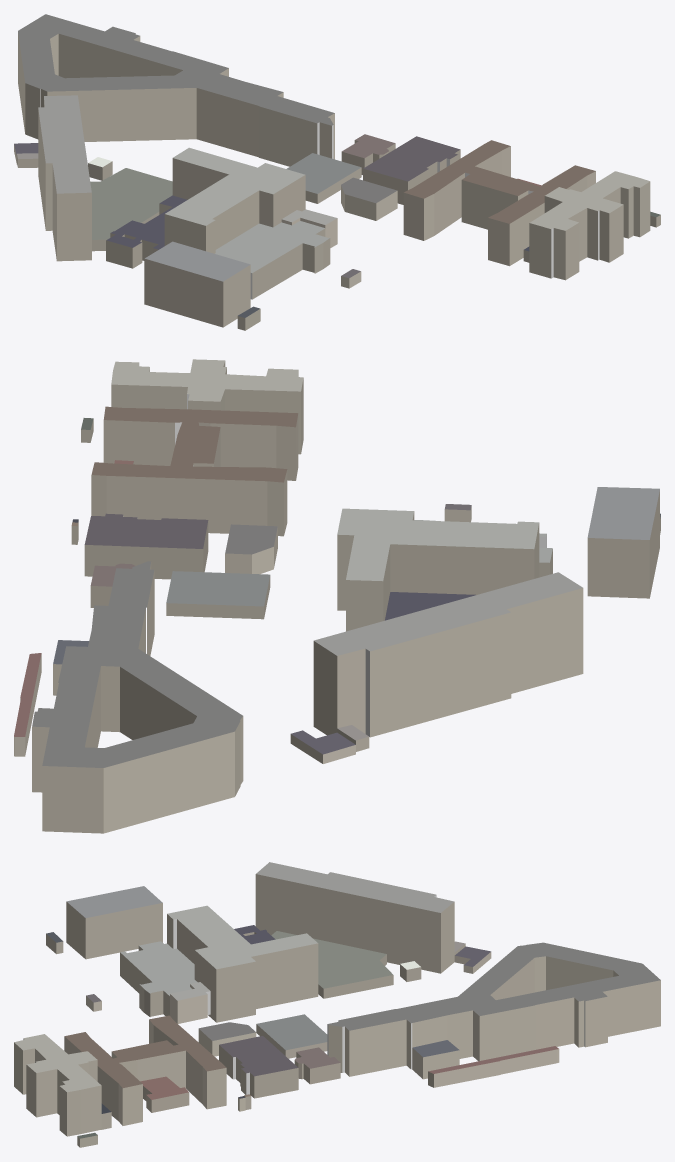
3 renders of one model, top to bottom at view 1: azimuth 30°, elevation 25°; view 2: azimuth 150°, elevation 25°; view 3: azimuth 270°, elevation 25°, orthographic. The views are drawn at different scales.
Visible parts, largest first — view 1: tuile; view 2: tuile; view 3: tuile.
Boxes of the visible parts, x1,y1,x2,y2 form: tuile: [14, 14, 660, 330]; tuile: [14, 359, 660, 833]; tuile: [14, 862, 660, 1147].
Bounding box in the file's own units: 265 × 42.81 × 332.
